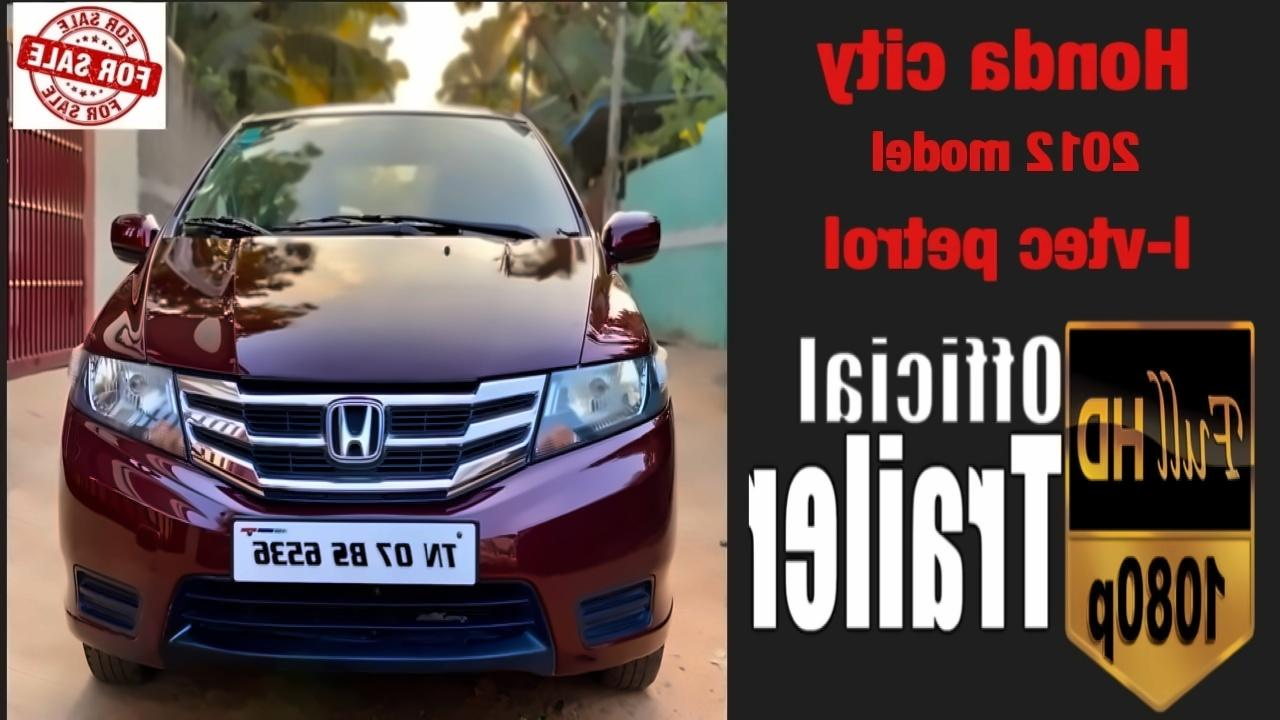Car hood: (132, 224, 603, 386)
Front bumper: (50, 429, 692, 684)
Headlight - -L-: (527, 342, 683, 466)
Headlight - -R-: (60, 339, 197, 471)
Side mirror - -L-: (594, 199, 677, 277)
Side mirror - -R-: (99, 200, 172, 271)
